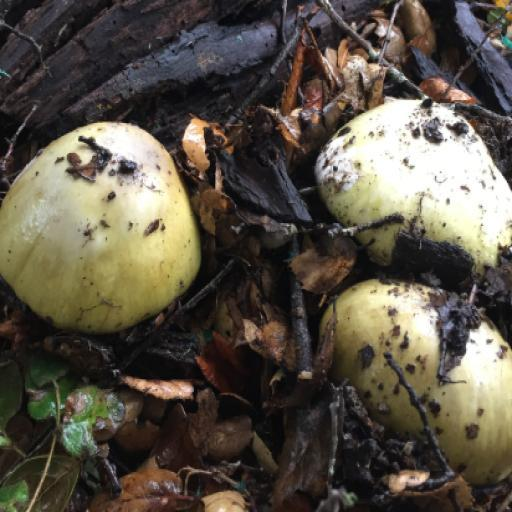mushroom: (0, 96, 234, 364), (1, 0, 1, 1)
